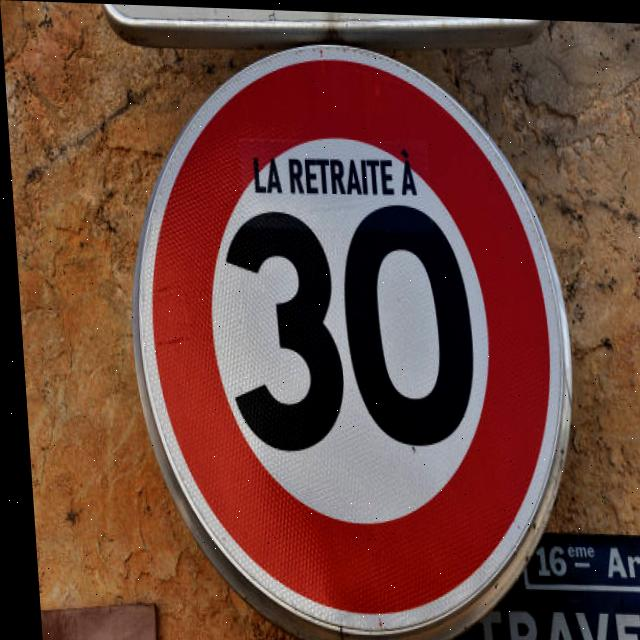Speed limit 30: (111, 32, 585, 640)
